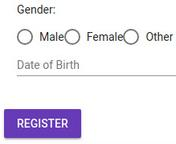button: (2, 107, 84, 140)
radio: (62, 27, 84, 47), (16, 27, 35, 46), (124, 26, 141, 47)
radio_with_label: (60, 24, 124, 49), (121, 23, 172, 49), (10, 24, 63, 48)
